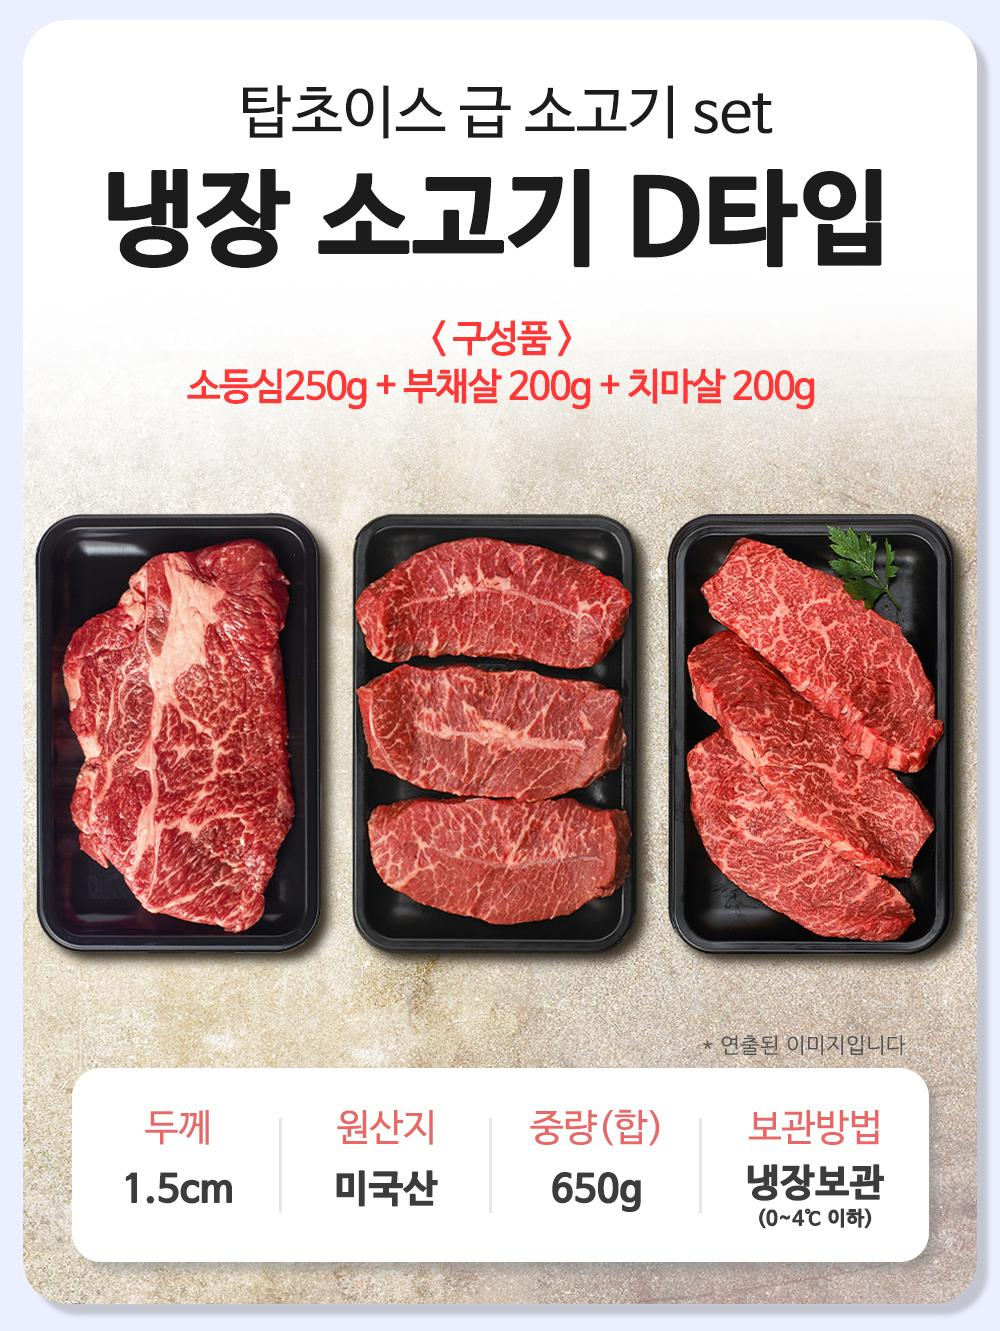beef: (83, 931, 459, 1331), (547, 1098, 971, 1331), (810, 916, 1000, 1331), (561, 1176, 994, 1331), (563, 1183, 977, 1331)
